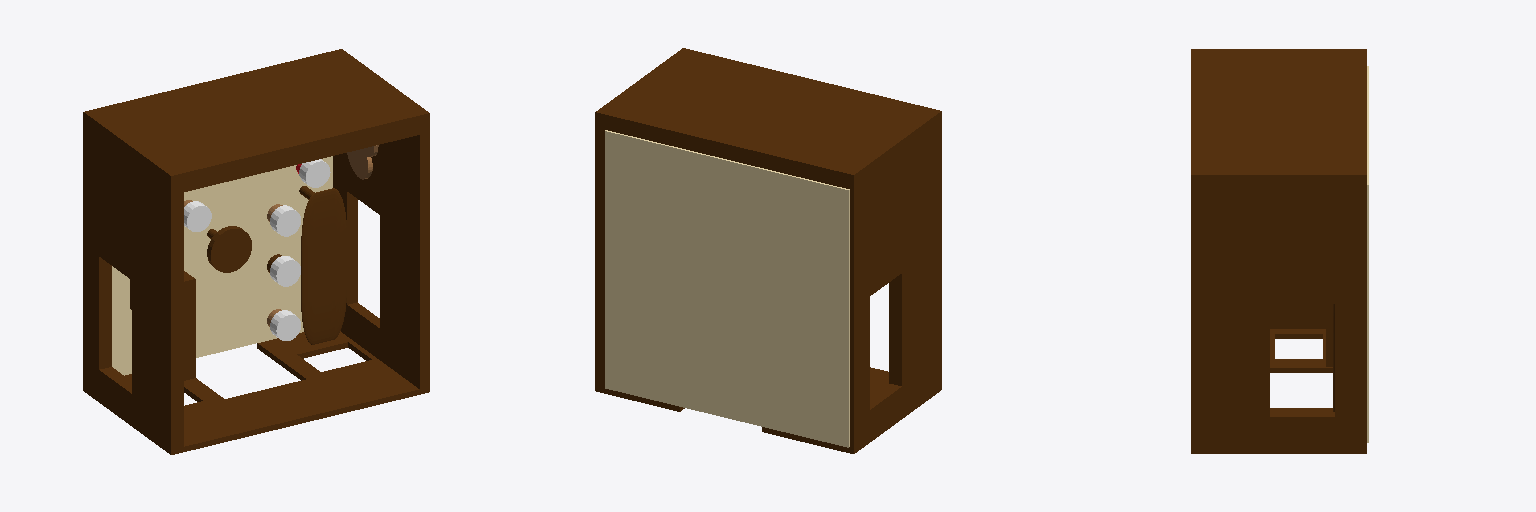
Rendered from tinker.obj.
3 views of the same model, side by side, from view 1: azimuth 30°, elevation 25°; view 2: azimuth 150°, elevation 25°; view 3: azimuth 270°, elevation 25° (orthographic).
Visible parts, largest first — view 1: obj_0; view 2: obj_0; view 3: obj_0.
Boxes of the visible parts, box(x1,y1,x2,y2) form: obj_0: box(83, 49, 429, 454); obj_0: box(595, 48, 941, 453); obj_0: box(1191, 49, 1368, 453).
Size of the model in its own units: 124 by 132 by 74.